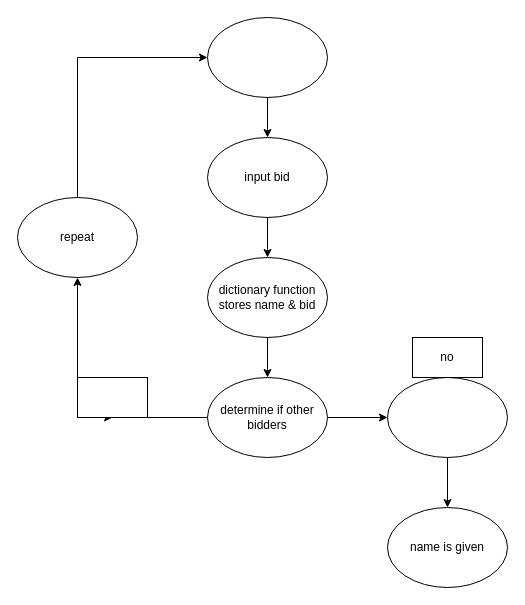
This 525x605 diagram has some shape labels left out. Each missing label, with the centre of its shape:
highest bid is selected: the point at 447,417
input name: the point at 267,57
yes: the point at 112,397
